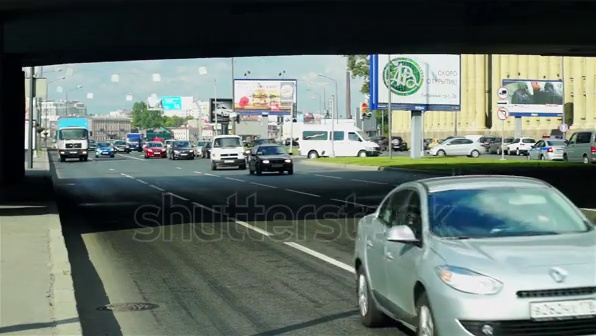licenseplate: (530, 301, 596, 316)
